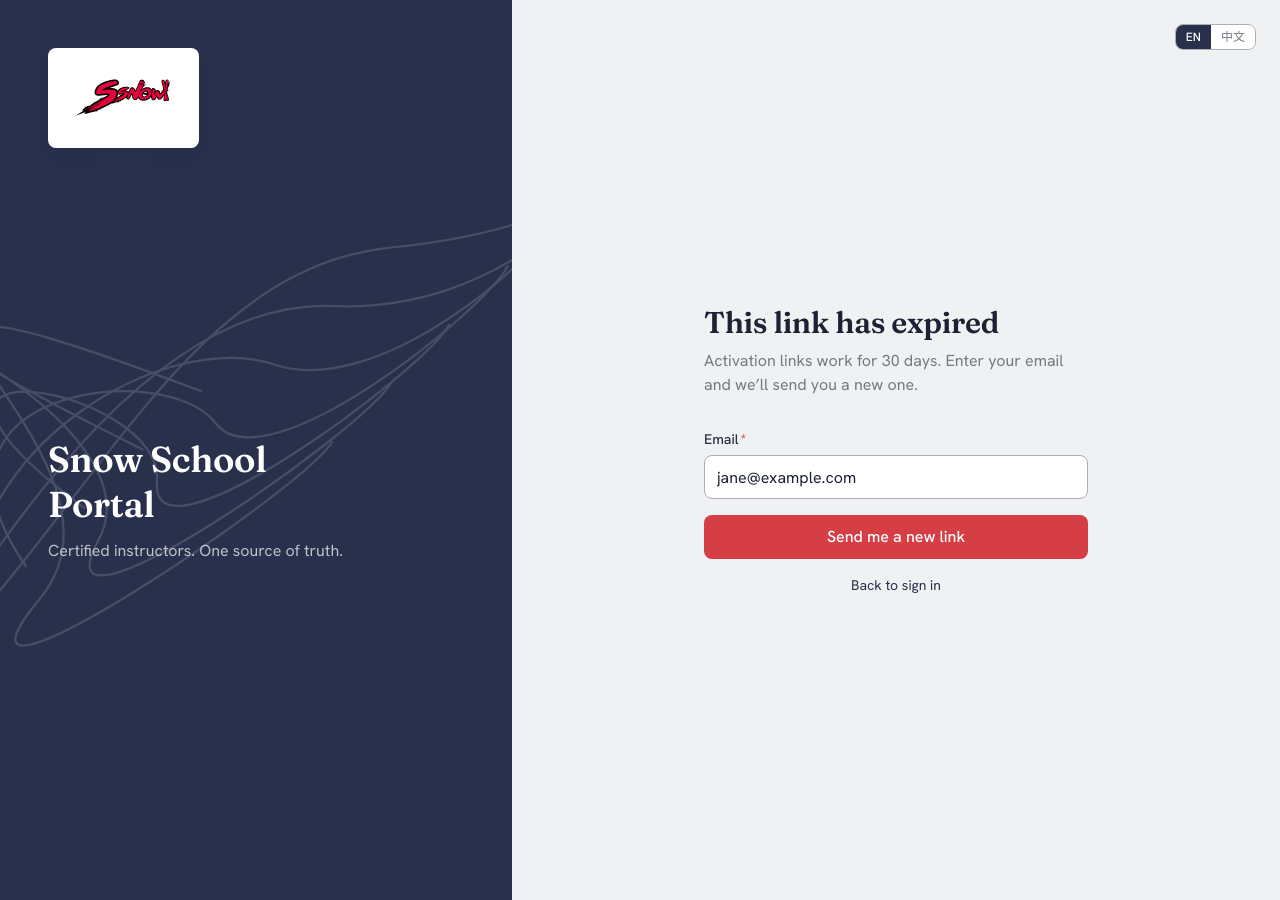
Test: ActivatePage › keeps the generic error for other resend failures
Click the button named "Send me a new link" at (896, 537), box [704,515,1088,559]
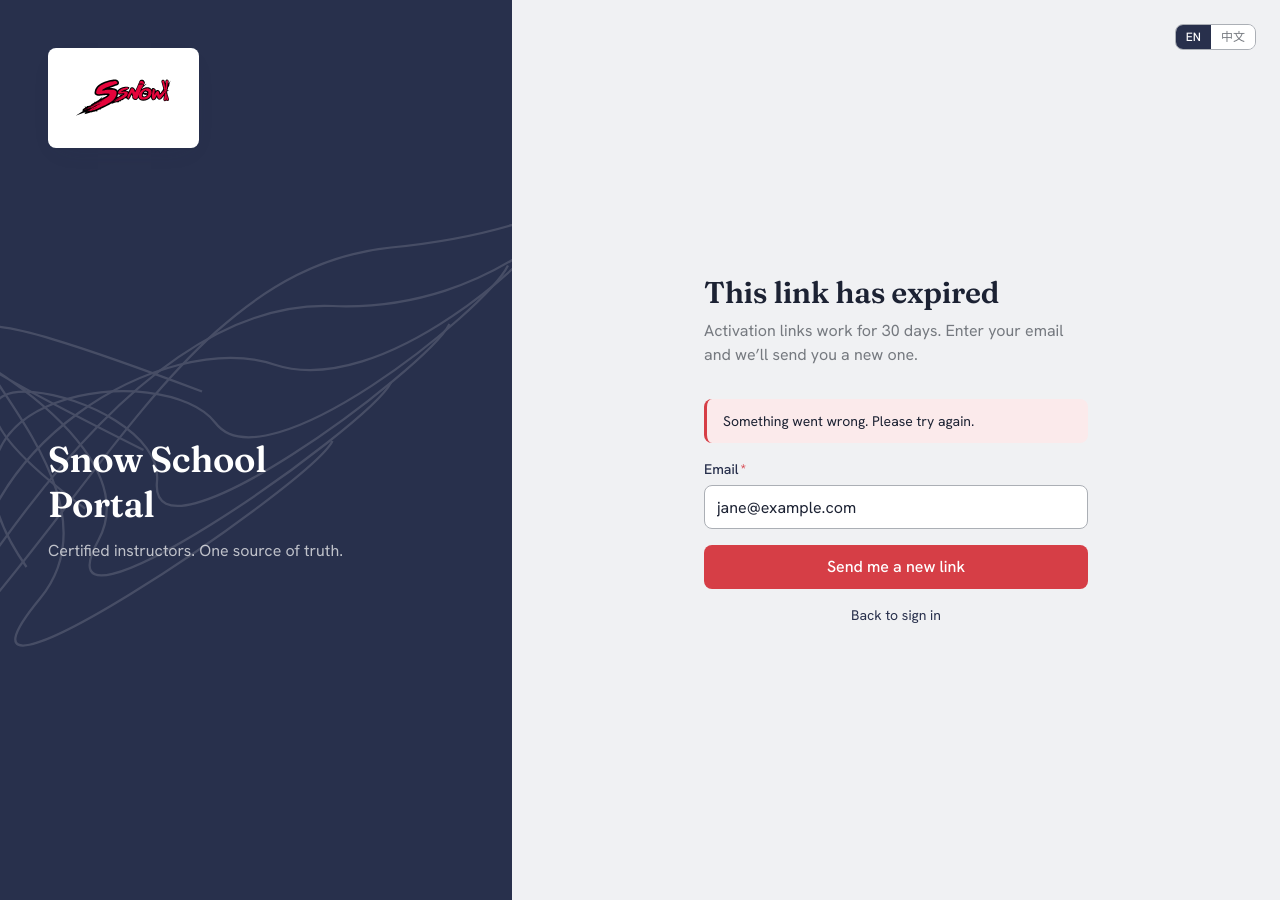
Check: the text "Something went wrong. Please try again." is shown, box [723,412,974,430]
